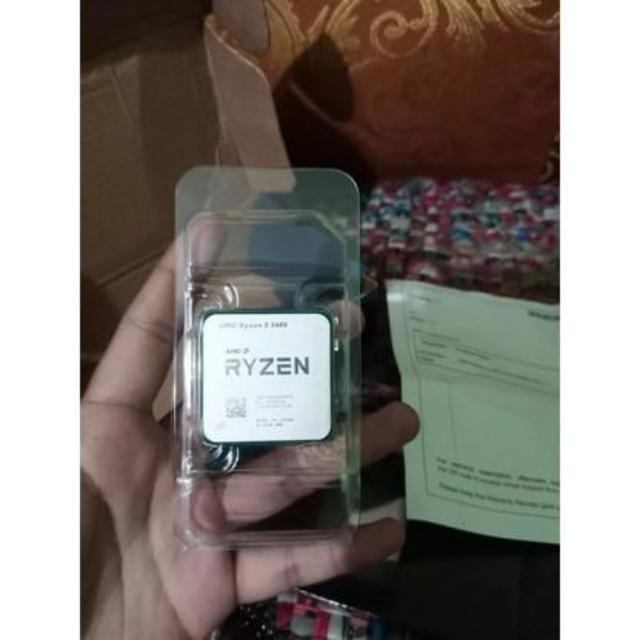CPU: (202, 312, 334, 444)
